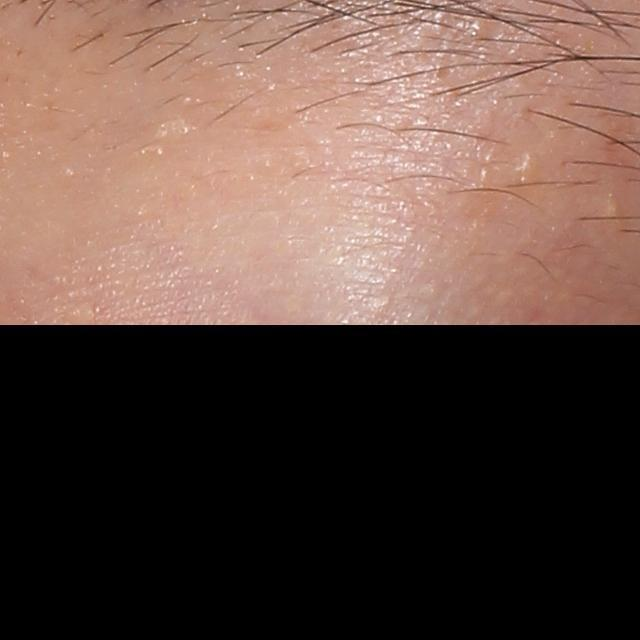comedo: (600, 197, 622, 221)
